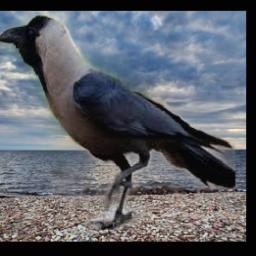Crow: (0, 14, 235, 230)
